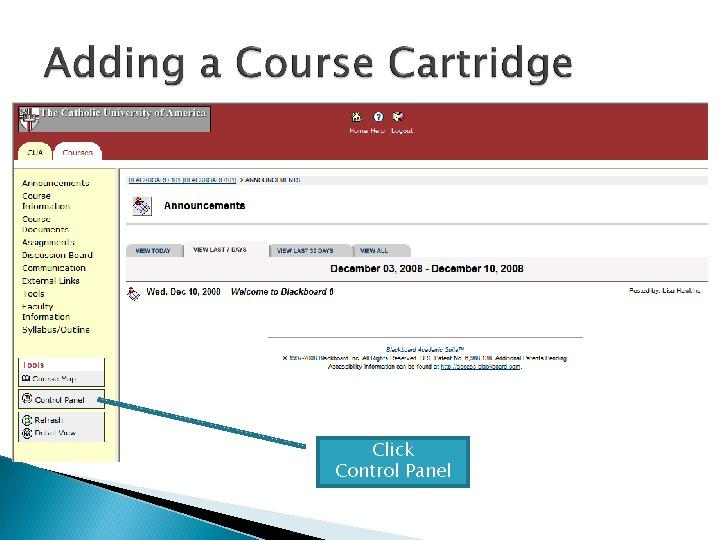title: (41, 31, 588, 91)
